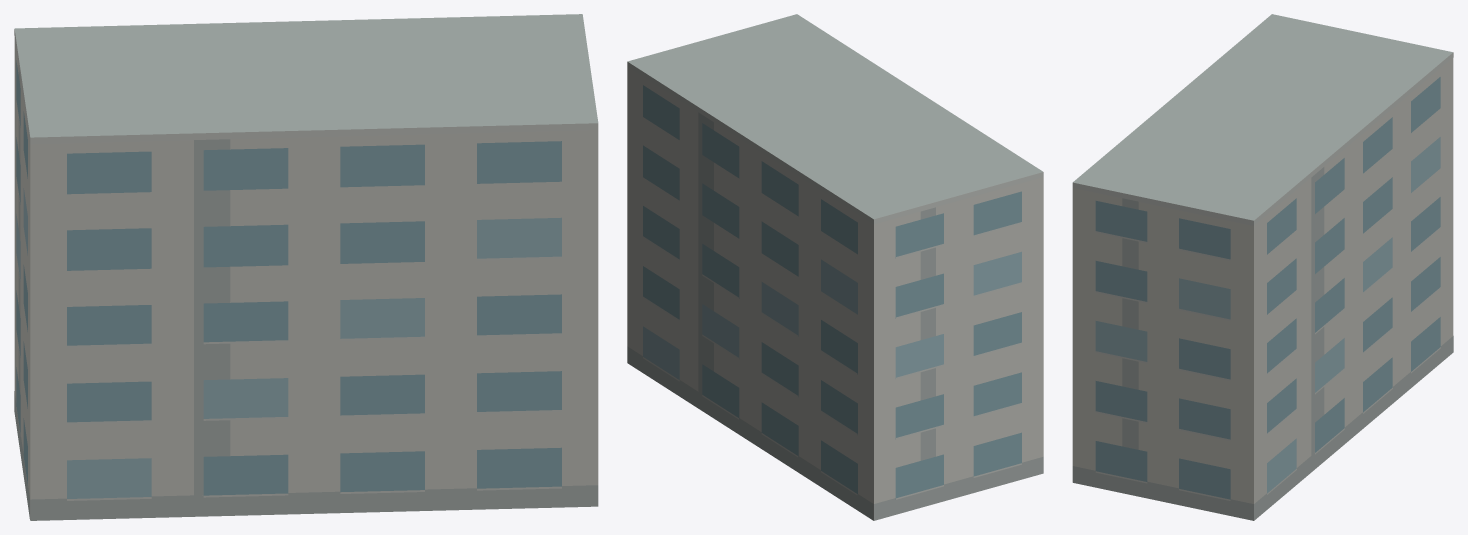
Rendered from survey-upis-32980209.glb.
The picture shows the model from 3 angles, left to right: view 1: azimuth 30°, elevation 25°; view 2: azimuth 150°, elevation 25°; view 3: azimuth 270°, elevation 25°; orthographic projection. The views are drawn at different scales.
Visible parts, largest first — view 1: survey-upis-32980209.tmp; view 2: survey-upis-32980209.tmp; view 3: survey-upis-32980209.tmp.
Boxes of the visible parts, box(x1,y1,x2,y2) form: survey-upis-32980209.tmp: box(14, 14, 598, 520); survey-upis-32980209.tmp: box(627, 14, 1043, 520); survey-upis-32980209.tmp: box(1072, 14, 1453, 520).
Bounding box in the file's own units: 20.61 × 13.95 × 16.05.
